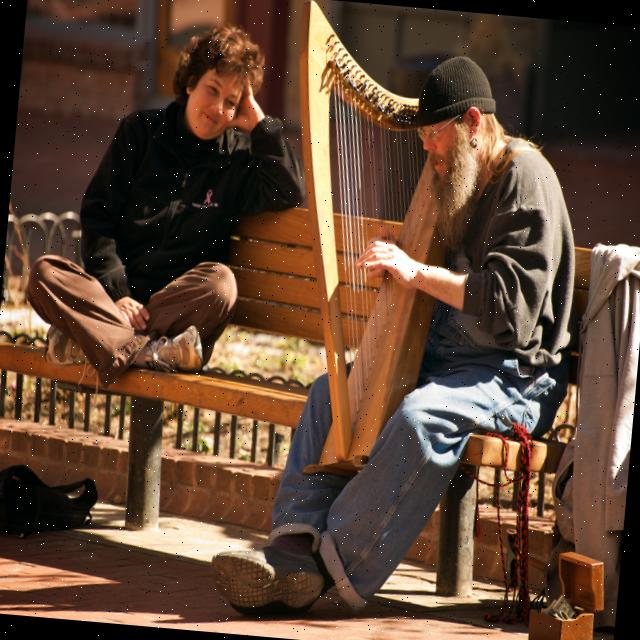harp: (260, 0, 471, 482)
